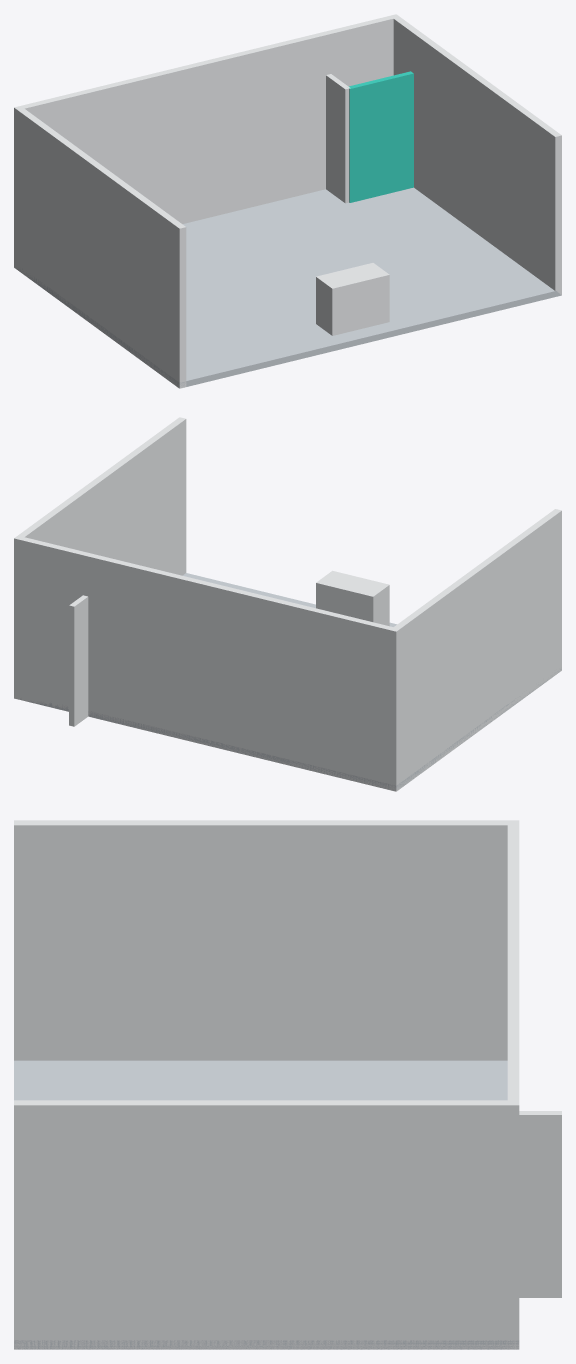
The picture shows the model from 3 angles, top to bottom: view 1: azimuth 30°, elevation 25°; view 2: azimuth 150°, elevation 25°; view 3: azimuth 270°, elevation 25°; orthographic projection. The views are drawn at different scales.
Parts seen in each view (by area): view 1: Exhibition Booth Concept; view 2: Exhibition Booth Concept; view 3: Exhibition Booth Concept.
Boxes of the visible parts, box(x1,y1,x2,y2) form: Exhibition Booth Concept: box(14, 14, 561, 388); Exhibition Booth Concept: box(14, 417, 561, 791); Exhibition Booth Concept: box(14, 820, 561, 1349).
Bounding box in the file's own units: 8 × 3.2 × 6.51.
